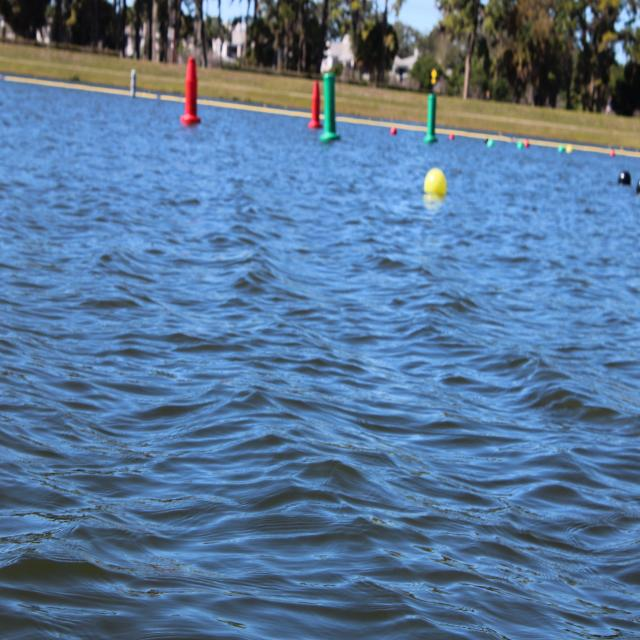black-buoy: (619, 170, 632, 187)
green-buoy: (558, 146, 566, 154)
green-column-buoy: (322, 73, 340, 143), (425, 93, 439, 144)
red-buoy: (390, 128, 397, 137)
red-column-buoy: (180, 57, 201, 127), (310, 79, 323, 129)
yellow-buoy: (426, 169, 448, 198), (566, 144, 573, 154)
